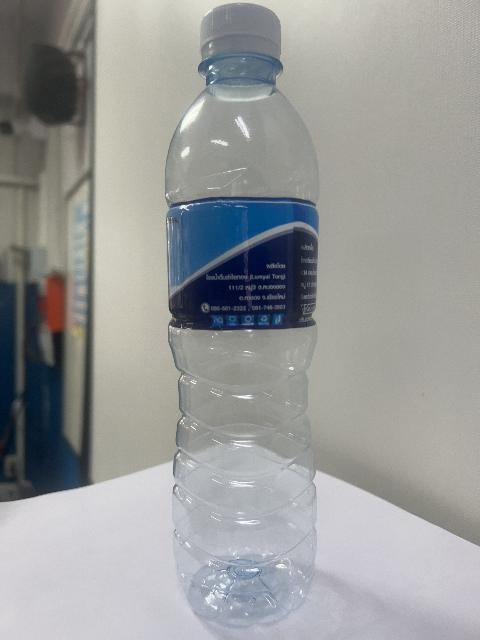bottle: (166, 4, 319, 626)
